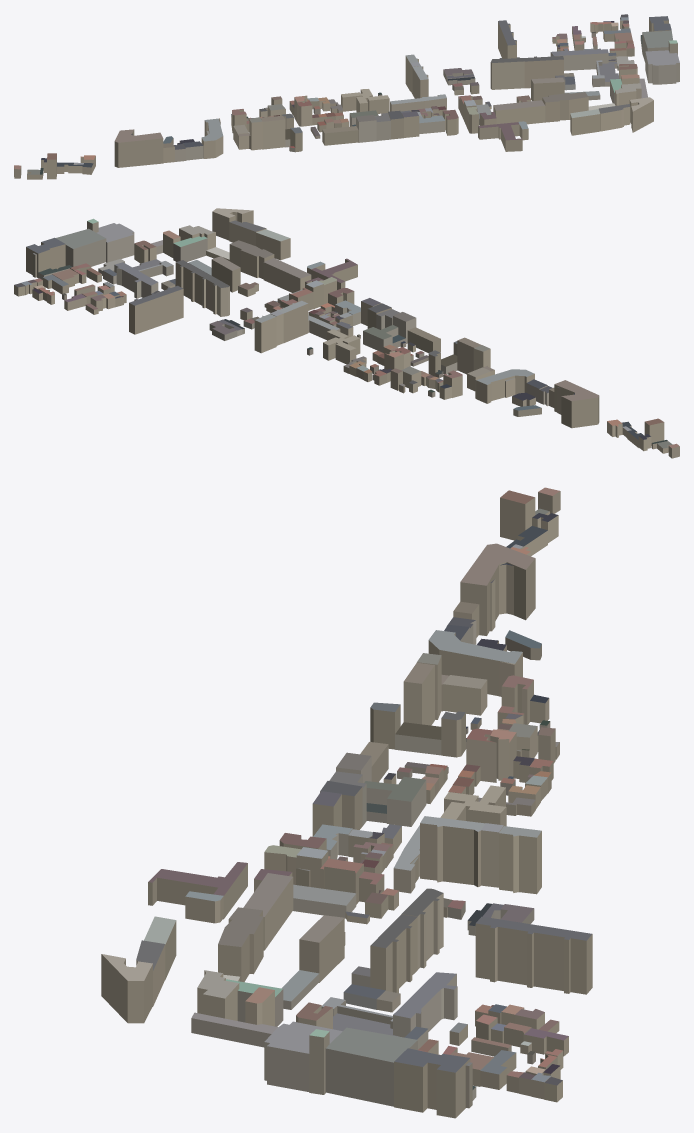
The picture shows the model from 3 angles, top to bottom: view 1: azimuth 30°, elevation 25°; view 2: azimuth 150°, elevation 25°; view 3: azimuth 270°, elevation 25°; orthographic projection. The views are drawn at different scales.
Visible parts, largest first — view 1: tuile; view 2: tuile; view 3: tuile.
Part boxes in pixels (bbox=[...]): tuile: bbox=[14, 14, 679, 179]; tuile: bbox=[14, 208, 679, 458]; tuile: bbox=[101, 487, 592, 1118].
Bounding box in the file's own units: 775 × 37.07 × 261.
